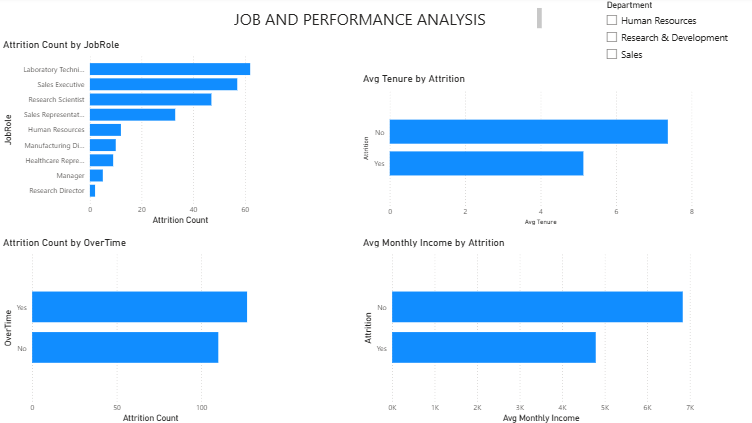

The dashboard page shown, as its layout file describes it:
{"tool":"powerbi","page":{"name":"Job and Performance","canvas":[1280,720],"ordinal":2},"visuals":[{"type":"clusteredBarChart","fields":{"Category":["WA_Fn-UseC_-HR-Employee-Attrition.JobRole"],"Y":["_Measures.Attrition Count"]},"box":[0,68.9,467,319.2],"z":0},{"type":"clusteredBarChart","fields":{"Category":["WA_Fn-UseC_-HR-Employee-Attrition.OverTime"],"Y":["_Measures.Attrition Count"]},"box":[0,401.5,467,319.2],"z":2},{"type":"clusteredBarChart","fields":{"Category":["WA_Fn-UseC_-HR-Employee-Attrition.Attrition"],"Y":["_Measures.Avg Monthly Income"]},"box":[604.7,401.5,566.1,319.2],"z":3},{"type":"clusteredBarChart","fields":{"Category":["WA_Fn-UseC_-HR-Employee-Attrition.Attrition"],"Y":["_Measures.Avg Tenure"]},"box":[604.7,58.8,566.1,329.2],"z":4},{"type":"textbox","box":[388,13.4,527.5,45.4],"z":5}]}

Visuals, with their boxes in screenshot pixels (x1, y1, x2, y2), scaled from the page's 1280x720 canvas onto the 752x423 screenshot:
clusteredBarChart - WA_Fn-UseC_-HR-Employee-Attrition.JobRole x _Measures.Attrition Count: (0,40,274,228)
clusteredBarChart - WA_Fn-UseC_-HR-Employee-Attrition.OverTime x _Measures.Attrition Count: (0,236,274,422)
clusteredBarChart - WA_Fn-UseC_-HR-Employee-Attrition.Attrition x _Measures.Avg Monthly Income: (355,236,688,422)
clusteredBarChart - WA_Fn-UseC_-HR-Employee-Attrition.Attrition x _Measures.Avg Tenure: (355,35,688,228)
textbox: (228,8,538,35)
